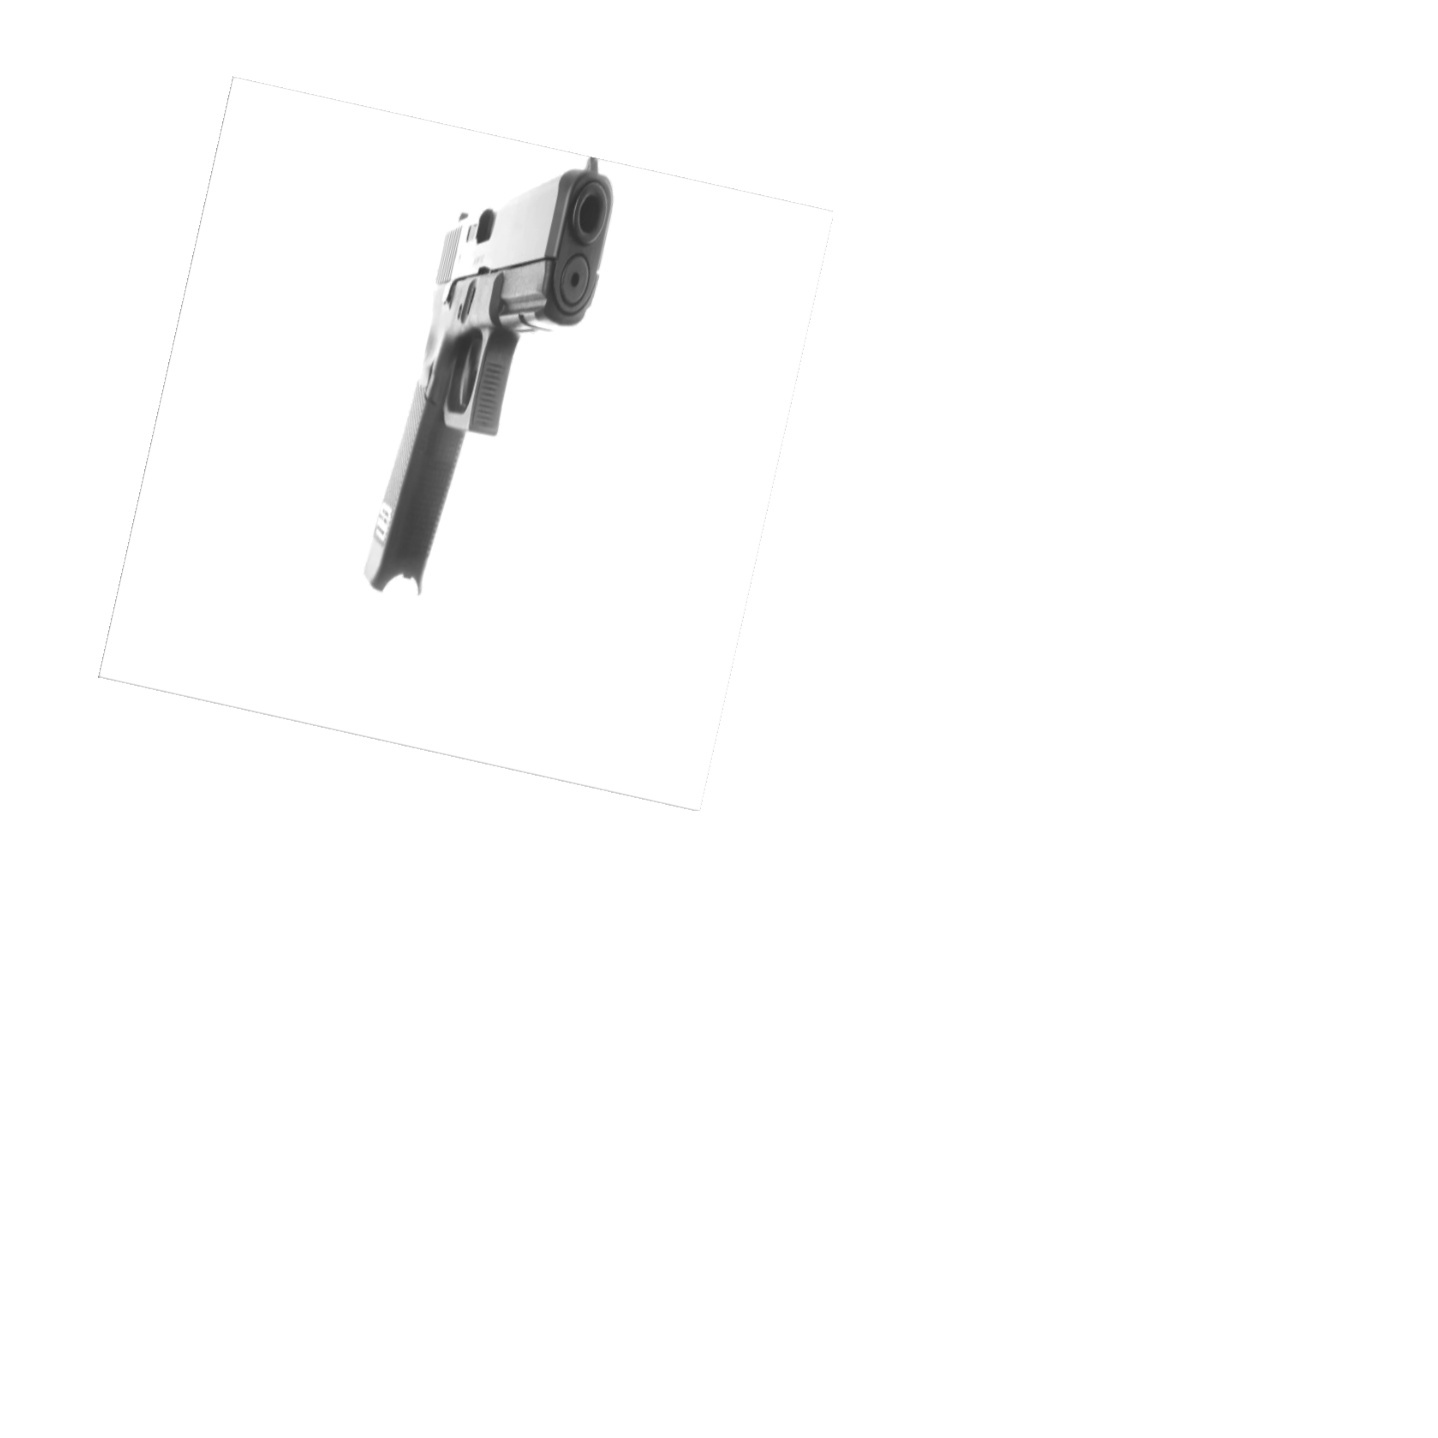gun: (359, 151, 616, 590)
